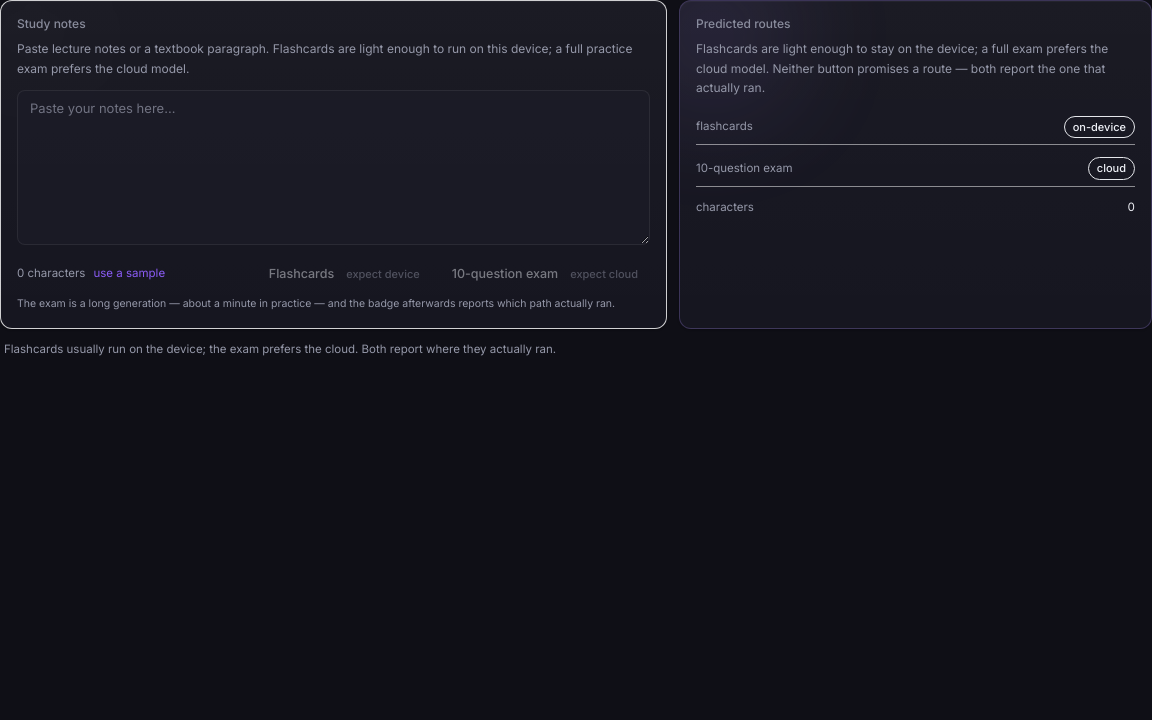
Test: QuizPage › shows the raw answer instead of an error when the model does not return JSON
Type "notes" into the text box named "Study notes" at (334, 167), box [17, 90, 650, 244]
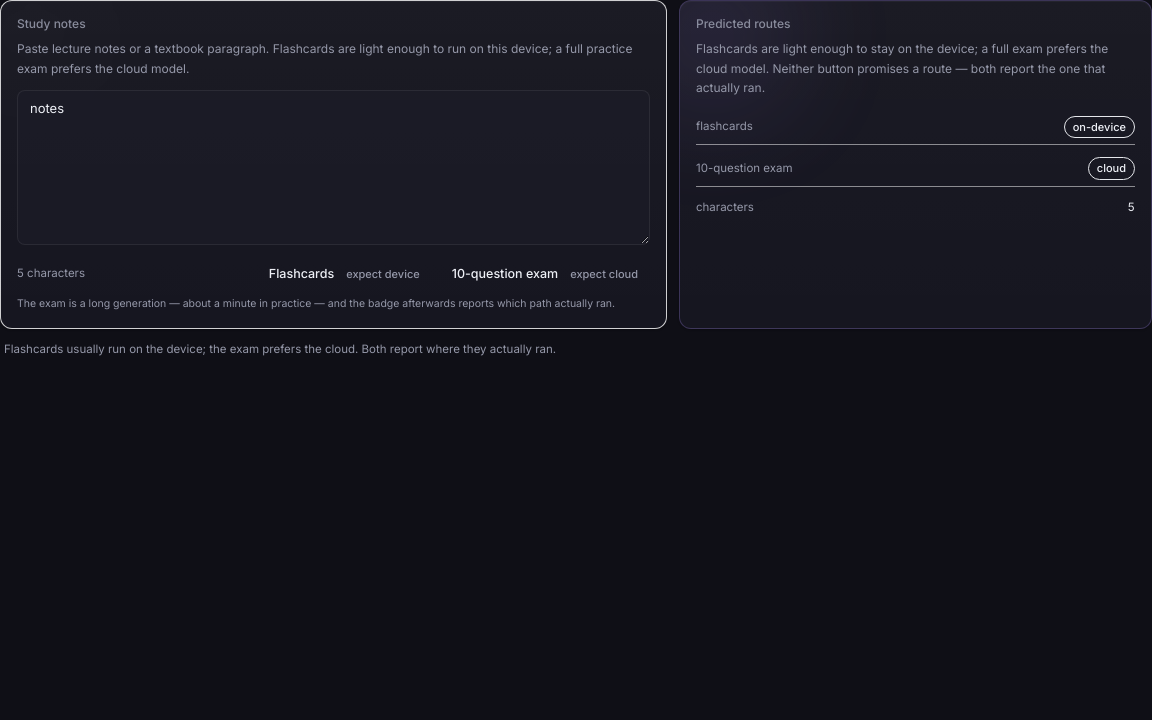
Click the button "Flashcards expect device" at (344, 274), box [257, 258, 432, 289]
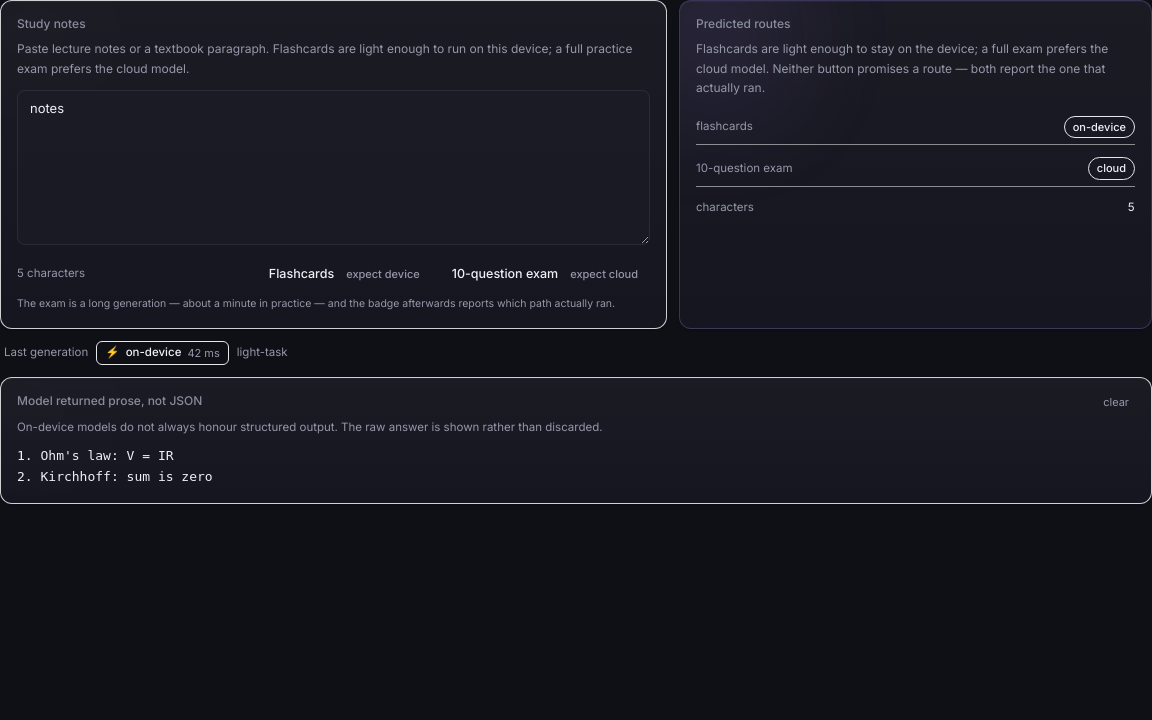
Now the heading "Model returned prose, not JSON" is shown, box [17, 392, 202, 410]
Now the text "1. Ohm's law: V = IR 2. Kirchhoff: sum is zero" is shown, box [17, 448, 213, 484]
